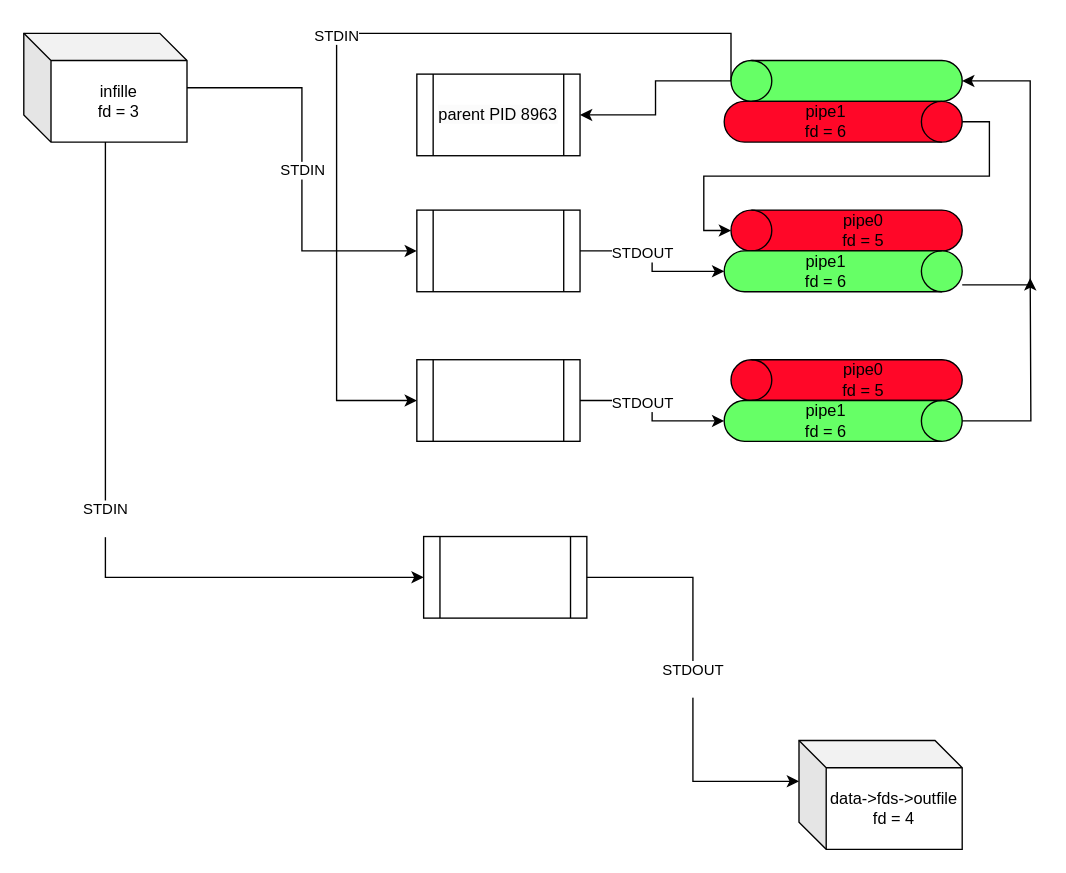
The diagram is 1066 pixels wide and 873 high, and some of its shapes have lost their labels. Each missing label, with the centre of its shape:
"child 1 PID 8964" goes at (x=497, y=250).
"child 2 PID 8965" goes at (x=497, y=399).
"final child PID 8966" goes at (x=504, y=576).
"pipe0 / data->fds->infile fd = 5" goes at (x=846, y=80).
